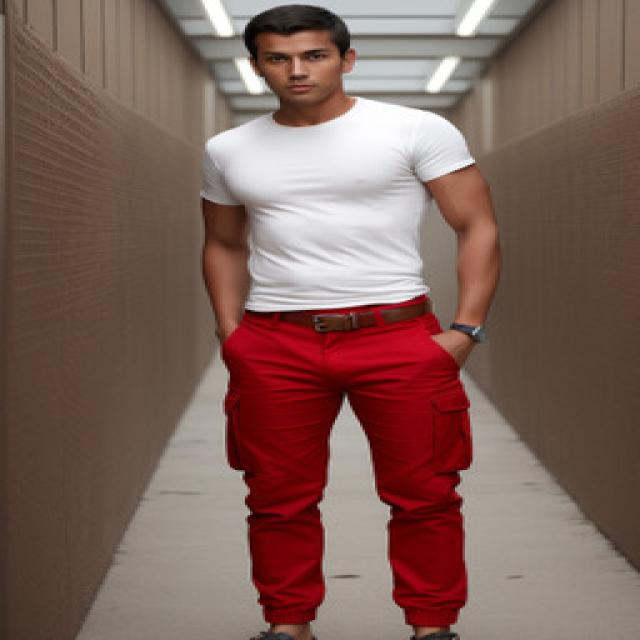Ai human 2: (174, 0, 524, 640)
